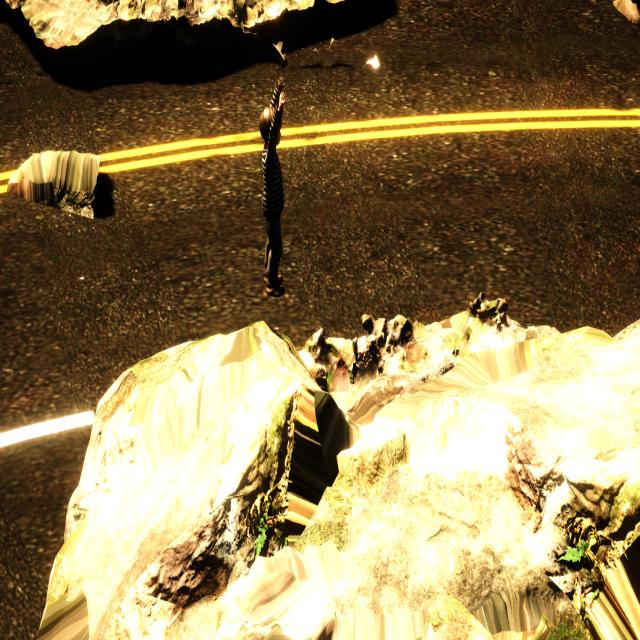Human: (256, 68, 294, 304)
